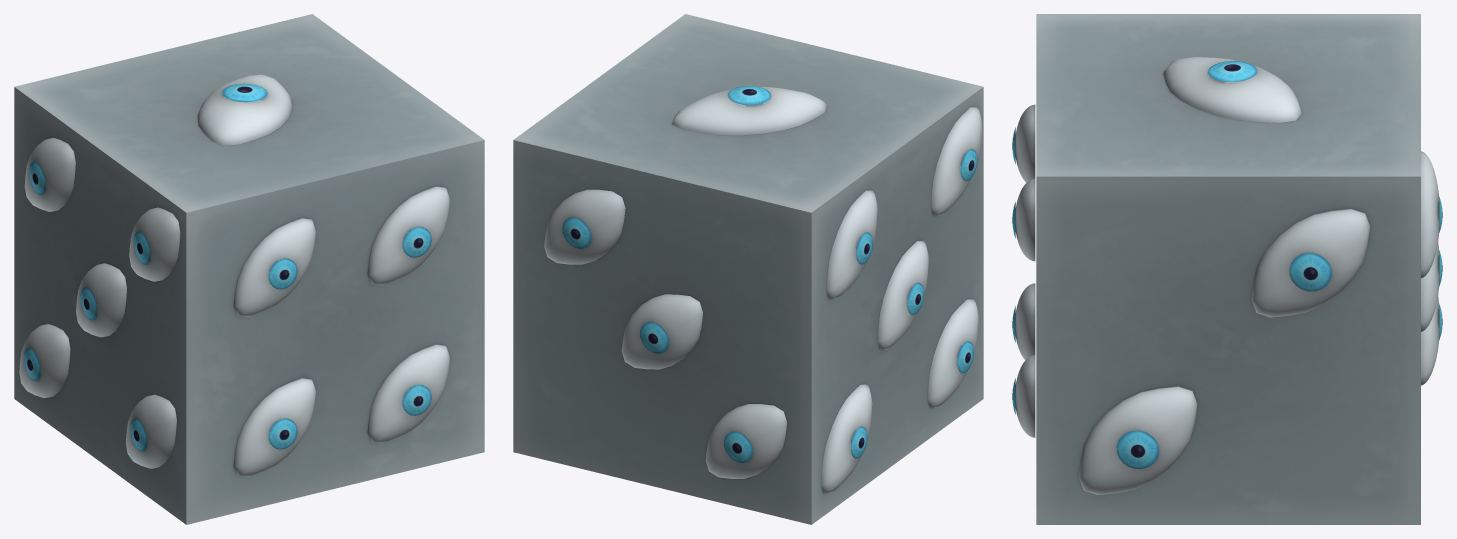
3 views of the same model, side by side, from view 1: azimuth 30°, elevation 25°; view 2: azimuth 150°, elevation 25°; view 3: azimuth 270°, elevation 25° (orthographic). The views are drawn at different scales.
Visible parts, largest first — view 1: pCube1, polySurface4, pSphere18, polySurface1, pSphere17, pSphere3, pSphere6, pSphere7, pSphere8, pSphere4, pSphere5; view 2: pCube1, pSphere12, pSphere3, pSphere6, pSphere5, pSphere8, pSphere4, pSphere7; view 3: pCube1, pSphere20, pSphere3, pSphere12, pSphere18, polySurface4, pSphere17, polySurface1.
Boxes of the visible parts, x1=… form: pCube1: x1=14, y1=14, x2=484, y2=524; polySurface4: x1=367, y1=186, x2=449, y2=285; pSphere18: x1=367, y1=344, x2=449, y2=443; polySurface1: x1=233, y1=378, x2=315, y2=477; pSphere17: x1=233, y1=218, x2=315, y2=317; pSphere3: x1=197, y1=74, x2=292, y2=145; pSphere6: x1=126, y1=394, x2=176, y2=468; pSphere7: x1=129, y1=207, x2=180, y2=281; pSphere8: x1=19, y1=324, x2=70, y2=397; pSphere4: x1=76, y1=263, x2=126, y2=337; pSphere5: x1=24, y1=137, x2=75, y2=211; pCube1: x1=513, y1=14, x2=983, y2=524; pSphere12: x1=544, y1=189, x2=786, y2=478; pSphere3: x1=672, y1=86, x2=827, y2=135; pSphere6: x1=927, y1=299, x2=978, y2=408; pSphere5: x1=826, y1=190, x2=877, y2=299; pSphere8: x1=821, y1=384, x2=872, y2=493; pSphere4: x1=877, y1=240, x2=928, y2=349; pSphere7: x1=931, y1=107, x2=981, y2=215; pCube1: x1=1036, y1=14, x2=1420, y2=524; pSphere20: x1=1078, y1=209, x2=1370, y2=494; pSphere3: x1=1163, y1=57, x2=1301, y2=122; pSphere12: x1=1421, y1=151, x2=1442, y2=385; pSphere18: x1=1012, y1=355, x2=1035, y2=437; polySurface4: x1=1012, y1=179, x2=1035, y2=261; pSphere17: x1=1012, y1=104, x2=1035, y2=182; polySurface1: x1=1012, y1=283, x2=1035, y2=360.
Bounding box in the file's own units: 0.2762 × 0.2766 × 0.2734.
1 material, 1 textured.
